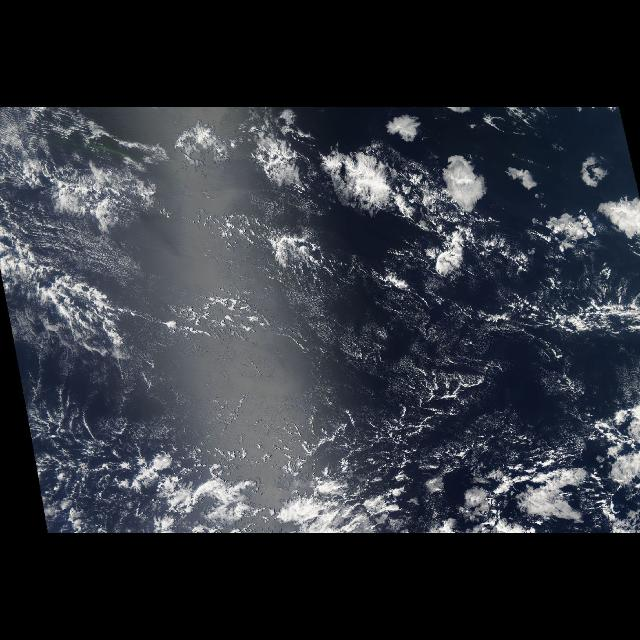Flower: (314, 117, 492, 235), (504, 140, 640, 248)
Gravel: (11, 114, 509, 466)
Sugar: (240, 271, 552, 467), (5, 210, 179, 288)
